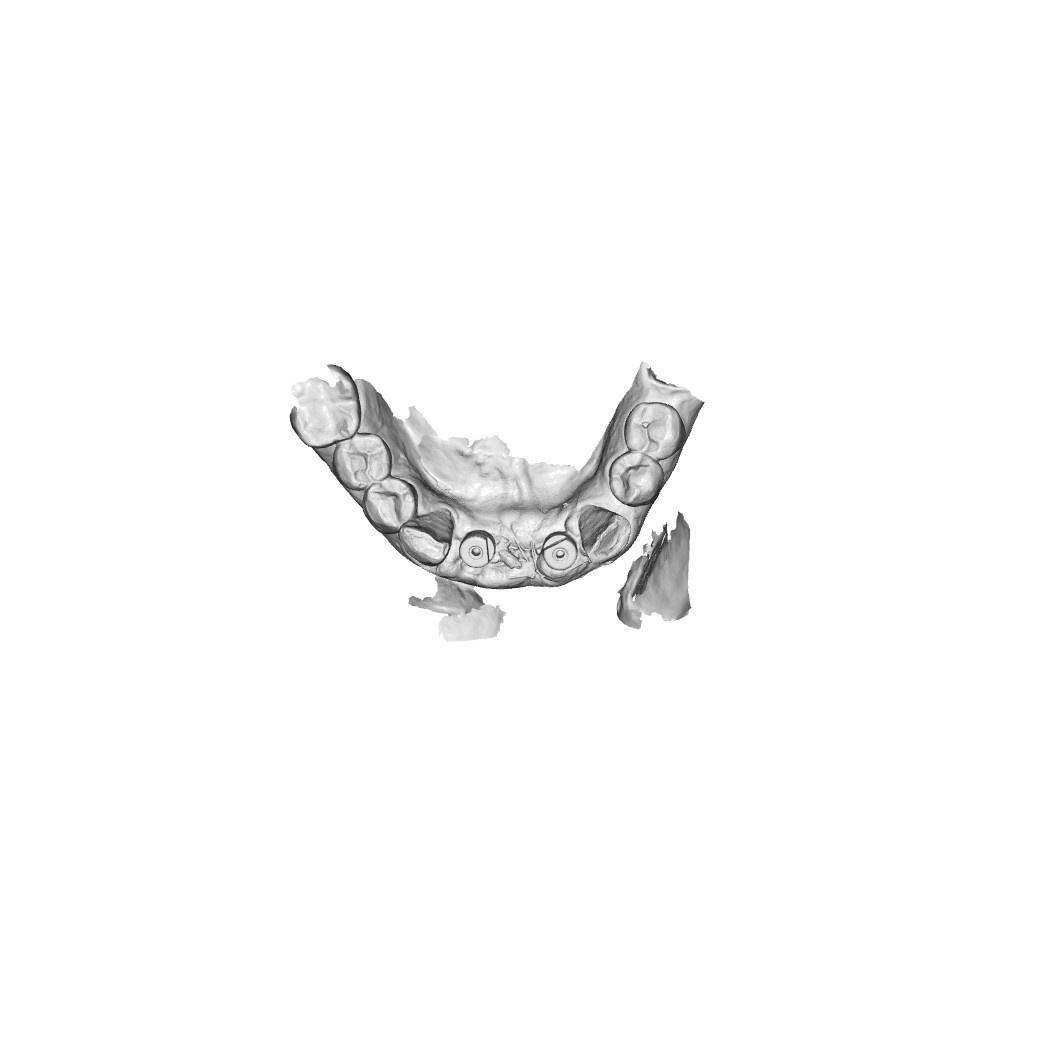canine: (398, 511, 458, 567), (578, 507, 630, 564)
implant: (540, 530, 578, 574), (456, 527, 496, 568)
molar: (286, 368, 359, 449)
premolar: (621, 397, 685, 459), (331, 434, 392, 492), (611, 454, 664, 508), (365, 478, 414, 530)
